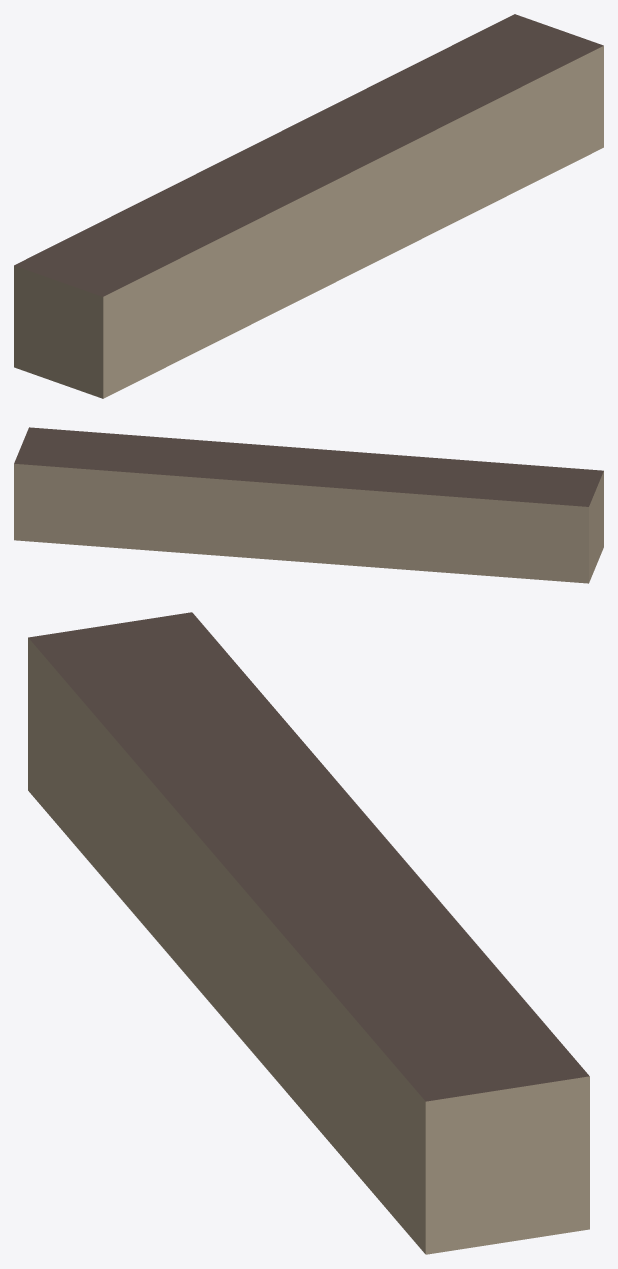
3 views of the same model, one above another, from view 1: azimuth 30°, elevation 25°; view 2: azimuth 150°, elevation 25°; view 3: azimuth 270°, elevation 25° (orthographic). The views are drawn at different scales.
Visible parts, largest first — view 1: HP-w408450785; view 2: HP-w408450785; view 3: HP-w408450785.
Part boxes in pixels (x1,y1,x2,y2): HP-w408450785: [14, 14, 603, 398]; HP-w408450785: [14, 427, 603, 583]; HP-w408450785: [28, 612, 589, 1254].
Bounding box in the file's own units: 61.68 × 9 × 29.91.
